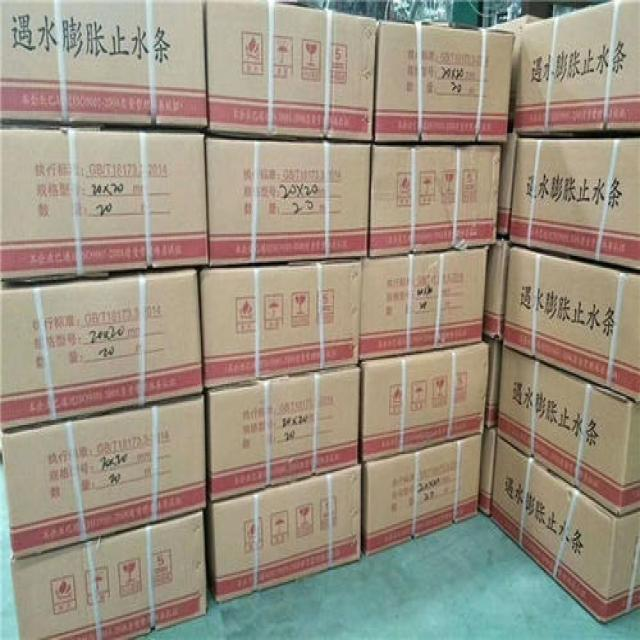box: (1, 395, 207, 559), (0, 269, 204, 433), (0, 126, 209, 283), (490, 437, 639, 625), (0, 2, 207, 134), (12, 509, 206, 638), (495, 346, 639, 517), (205, 2, 377, 142), (501, 245, 639, 403), (207, 364, 362, 504), (205, 138, 371, 267), (206, 465, 360, 603), (199, 259, 361, 389), (508, 135, 639, 270), (373, 21, 515, 143), (514, 0, 639, 135), (360, 341, 489, 464), (368, 142, 501, 258), (360, 434, 482, 556), (360, 249, 489, 359), (487, 15, 545, 131), (485, 237, 509, 340), (495, 131, 516, 243), (482, 332, 501, 429), (480, 426, 497, 518)
